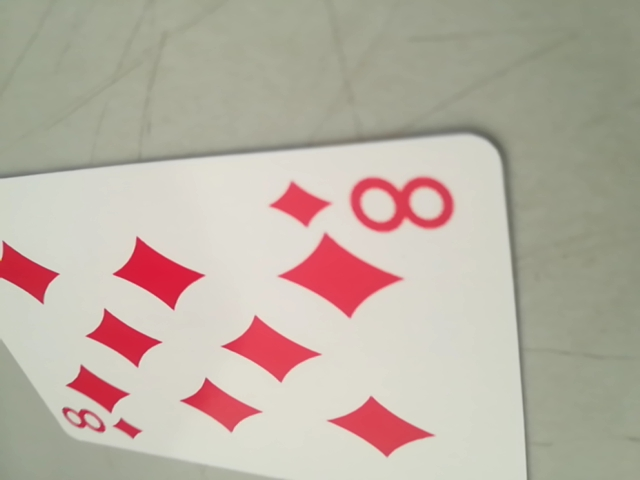fk 8: (271, 163, 470, 244), (58, 403, 143, 442)
